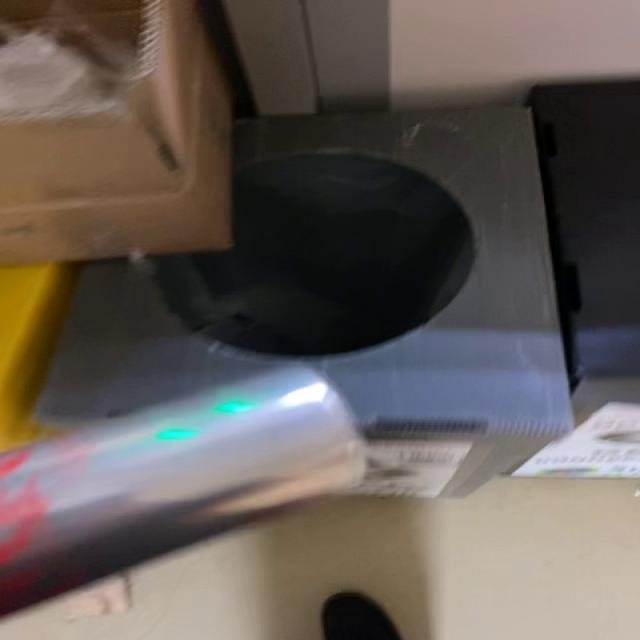metal: (0, 368, 365, 616)
